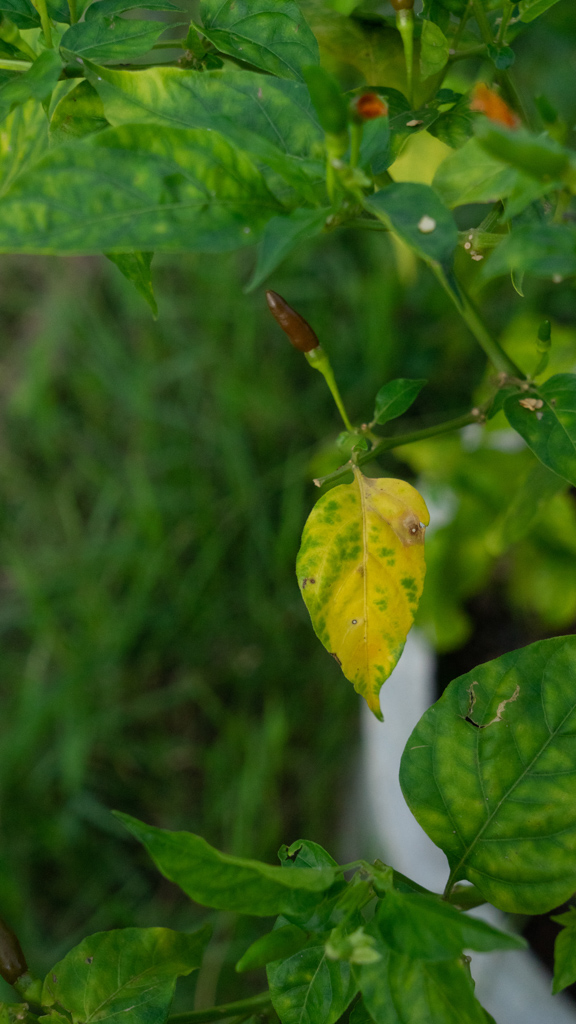Pepper yellow leaf: (294, 474, 431, 731)
frog-eye leafspot: (399, 519, 422, 541), (341, 610, 363, 630)
